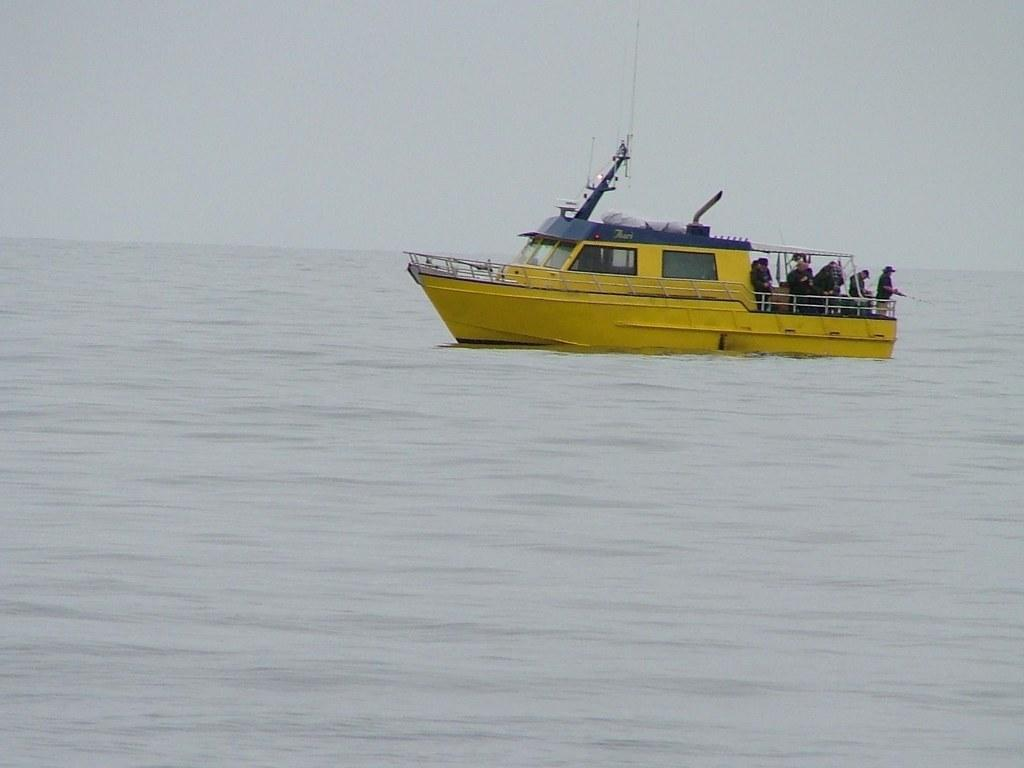PassengerShip: (396, 124, 906, 362)
